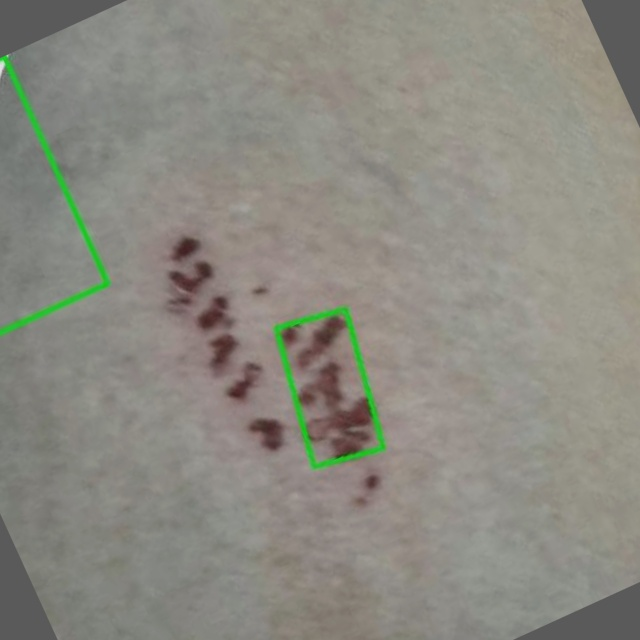Scabies: (277, 309, 384, 467)
